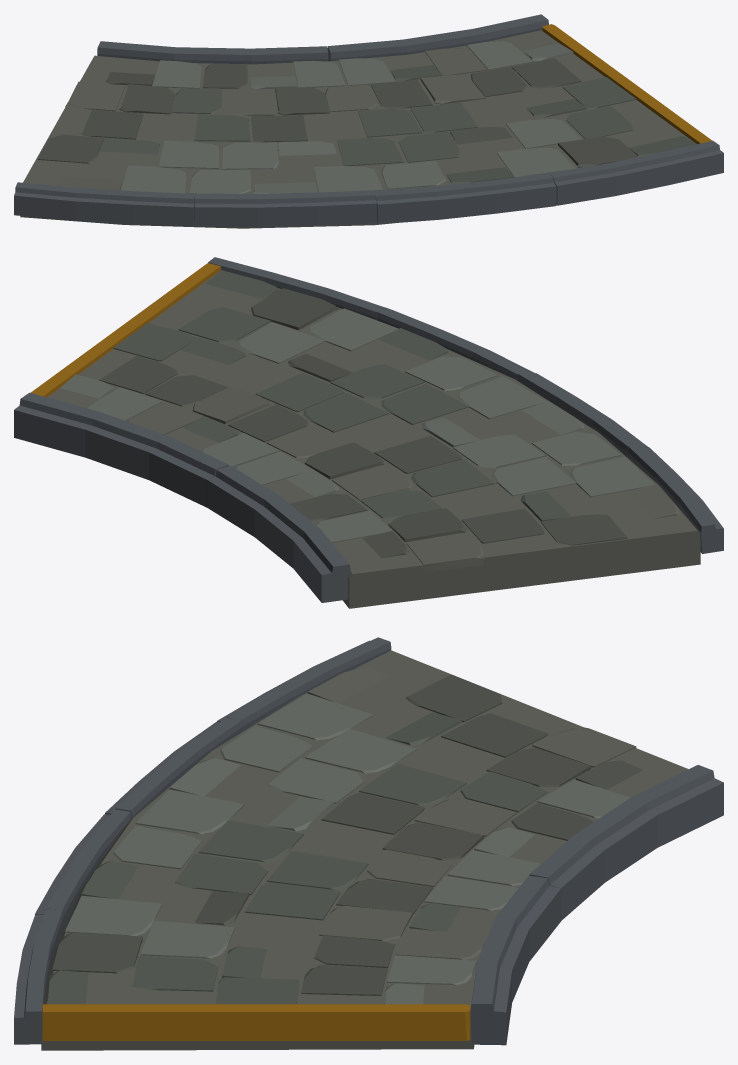
Rendered from MCastle_CYardTiles_Corner_01.FBX.
3 views of the same model, one above another, from view 1: azimuth 30°, elevation 25°; view 2: azimuth 150°, elevation 25°; view 3: azimuth 270°, elevation 25° (orthographic). The views are drawn at different scales.
Parts seen in each view (by area): view 1: MCastle_CYardTiles_Corner_01_Slabs_LOD0; view 2: MCastle_CYardTiles_Corner_01_Slabs_LOD0; view 3: MCastle_CYardTiles_Corner_01_Slabs_LOD0.
Boxes of the visible parts, x1=… form: MCastle_CYardTiles_Corner_01_Slabs_LOD0: x1=14, y1=14, x2=723, y2=228; MCastle_CYardTiles_Corner_01_Slabs_LOD0: x1=14, y1=257, x2=723, y2=608; MCastle_CYardTiles_Corner_01_Slabs_LOD0: x1=14, y1=637, x2=723, y2=1050.
Size of what is drawn, in the model's own units: 14.47 by 0.9044 by 11.52.
